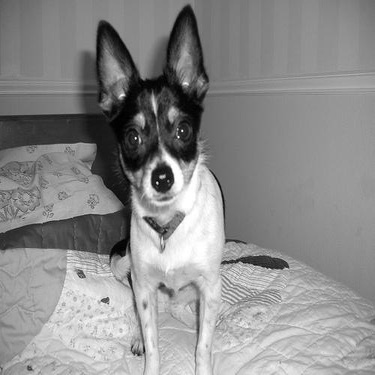dog: (79, 2, 230, 373)
